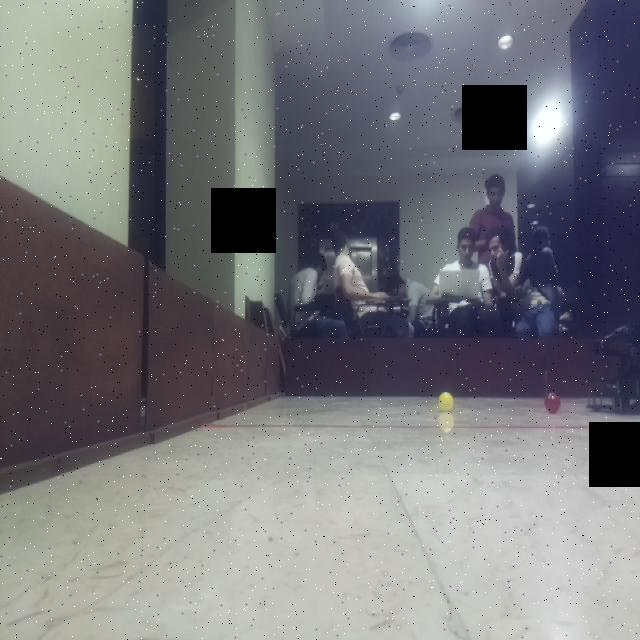ball: (436, 390, 460, 415), (541, 392, 565, 415)
